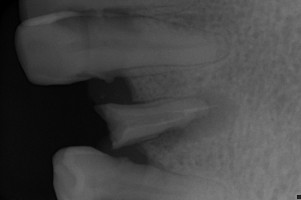Furcation Involvement: (141, 92, 240, 147)
